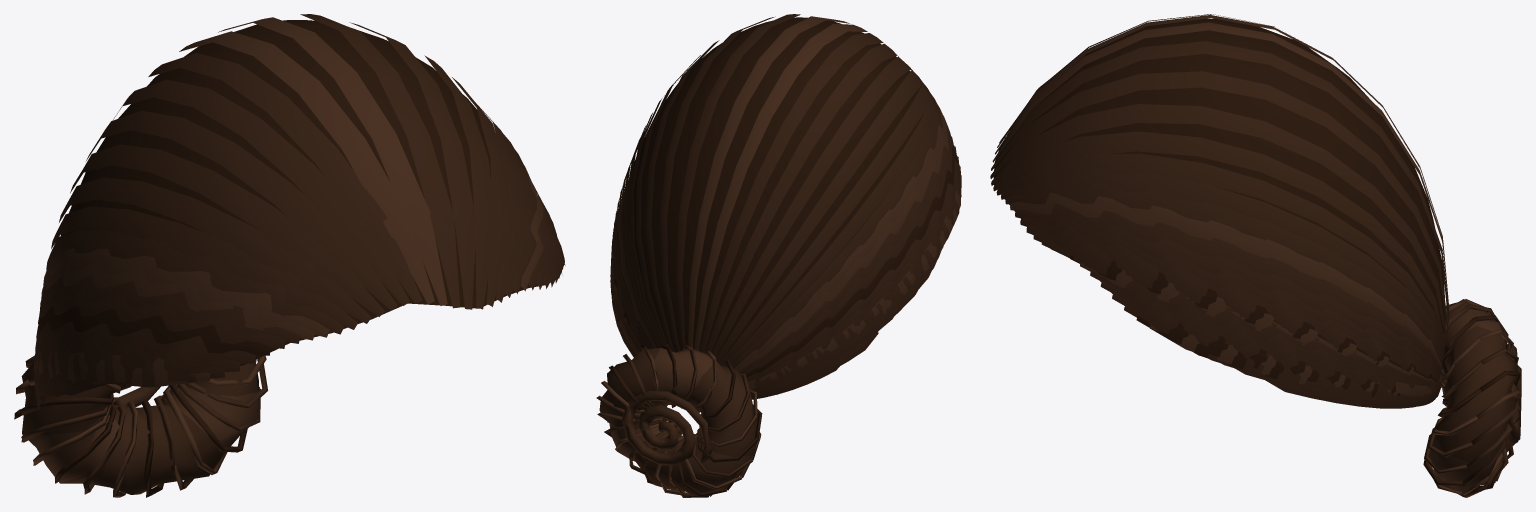
The model's file is swept-bun-far.glb.
3 renders of one model, left to right at view 1: azimuth 30°, elevation 25°; view 2: azimuth 150°, elevation 25°; view 3: azimuth 270°, elevation 25°, orthographic. The views are drawn at different scales.
Parts seen in each view (by area): view 1: S02 swept scalp ribbons - far, S02 swept foundation - far, S02 sculpted low twist - far, S02 twist fibre ridges - far; view 2: S02 swept scalp ribbons - far, S02 swept foundation - far, S02 sculpted low twist - far, S02 twist fibre ridges - far, S02 wound centre - far; view 3: S02 swept scalp ribbons - far, S02 swept foundation - far, S02 sculpted low twist - far, S02 twist fibre ridges - far, S02 wound centre - far.
Boxes of the visible parts, box(x1,y1,x2,y2) form: S02 swept scalp ribbons - far: box(34, 14, 565, 409); S02 swept foundation - far: box(42, 20, 544, 399); S02 sculpted low twist - far: box(21, 359, 258, 494); S02 twist fibre ridges - far: box(14, 355, 267, 497); S02 swept scalp ribbons - far: box(610, 14, 961, 399); S02 swept foundation - far: box(618, 17, 924, 360); S02 sculpted low twist - far: box(599, 348, 758, 495); S02 twist fibre ridges - far: box(596, 344, 762, 497); S02 wound centre - far: box(622, 391, 713, 465); S02 swept scalp ribbons - far: box(990, 14, 1449, 408); S02 swept foundation - far: box(993, 18, 1445, 337); S02 sculpted low twist - far: box(1428, 303, 1517, 492); S02 twist fibre ridges - far: box(1423, 299, 1521, 497); S02 wound centre - far: box(1505, 343, 1521, 446).
Size of the model in its own units: 0.169 by 0.21 by 0.2203.
